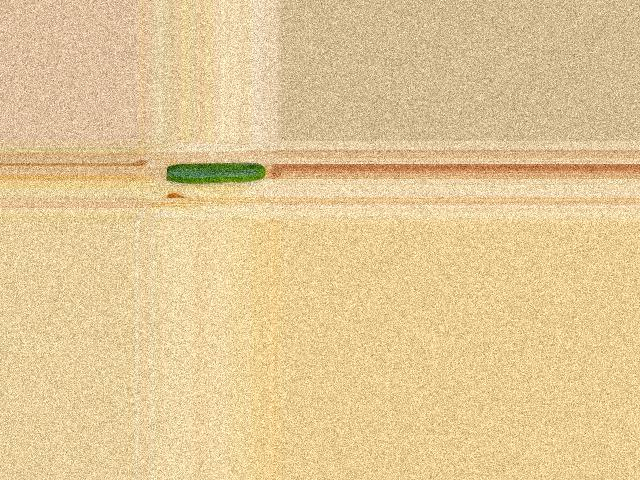cucumber: (167, 163, 265, 183)
